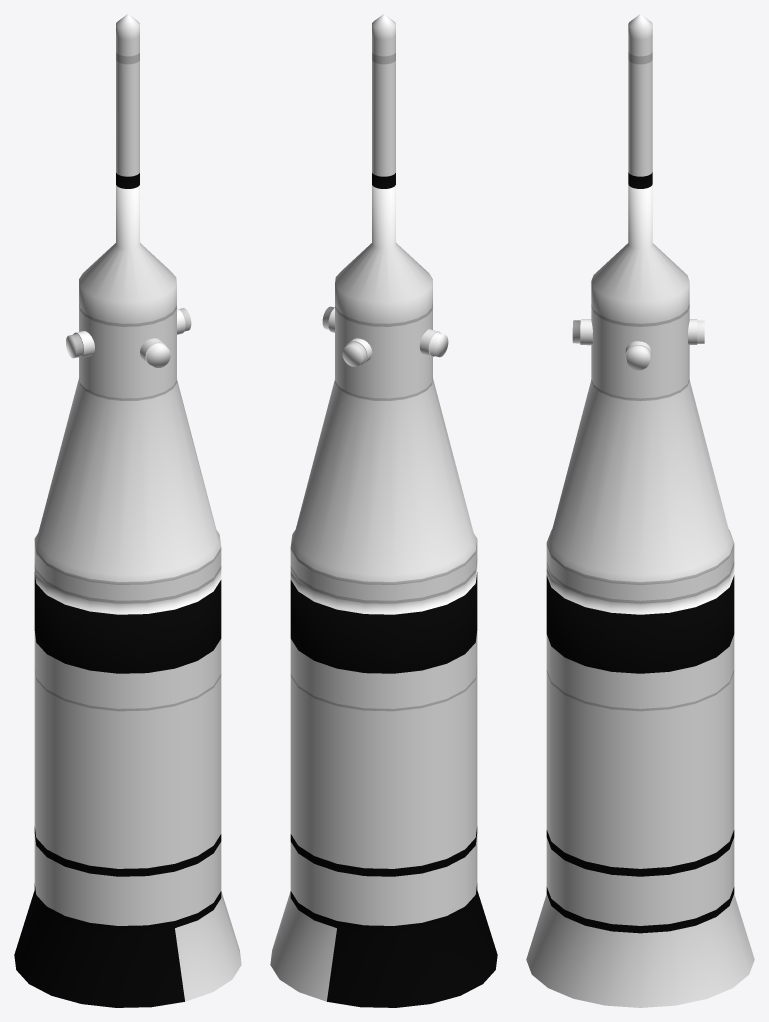
File: Etapa3.obj
The picture shows the model from 3 angles, left to right: view 1: azimuth 30°, elevation 25°; view 2: azimuth 150°, elevation 25°; view 3: azimuth 270°, elevation 25°; orthographic projection.
Size of the model in its own units: 0.7213 by 3.29 by 0.7213.
